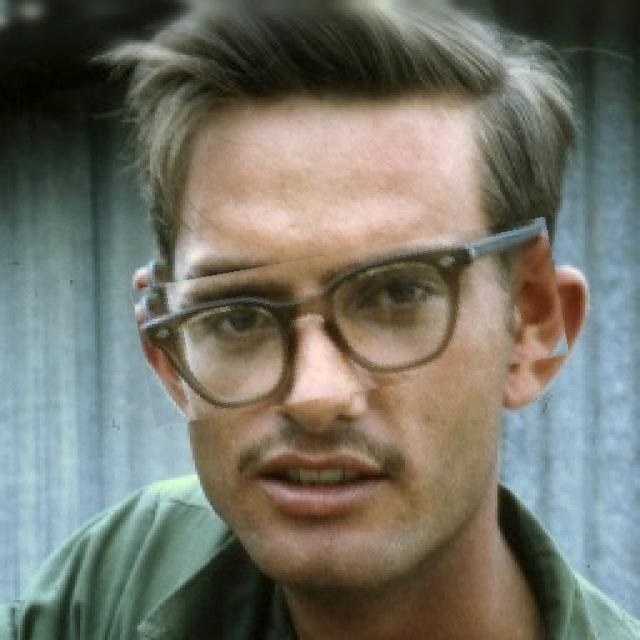glasses: (137, 234, 565, 410)
